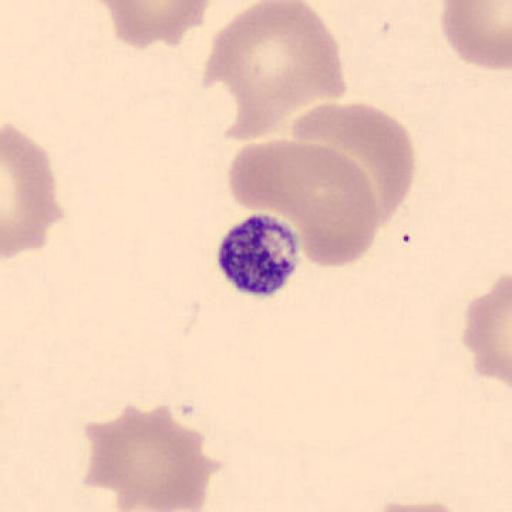Platelet: (214, 211, 304, 298)
RBC: (202, 1, 347, 143), (226, 138, 380, 270), (288, 100, 417, 224), (81, 402, 216, 512), (278, 140, 380, 269), (2, 124, 62, 260), (462, 271, 512, 388), (96, 0, 213, 48), (439, 0, 512, 72), (350, 500, 475, 512)
